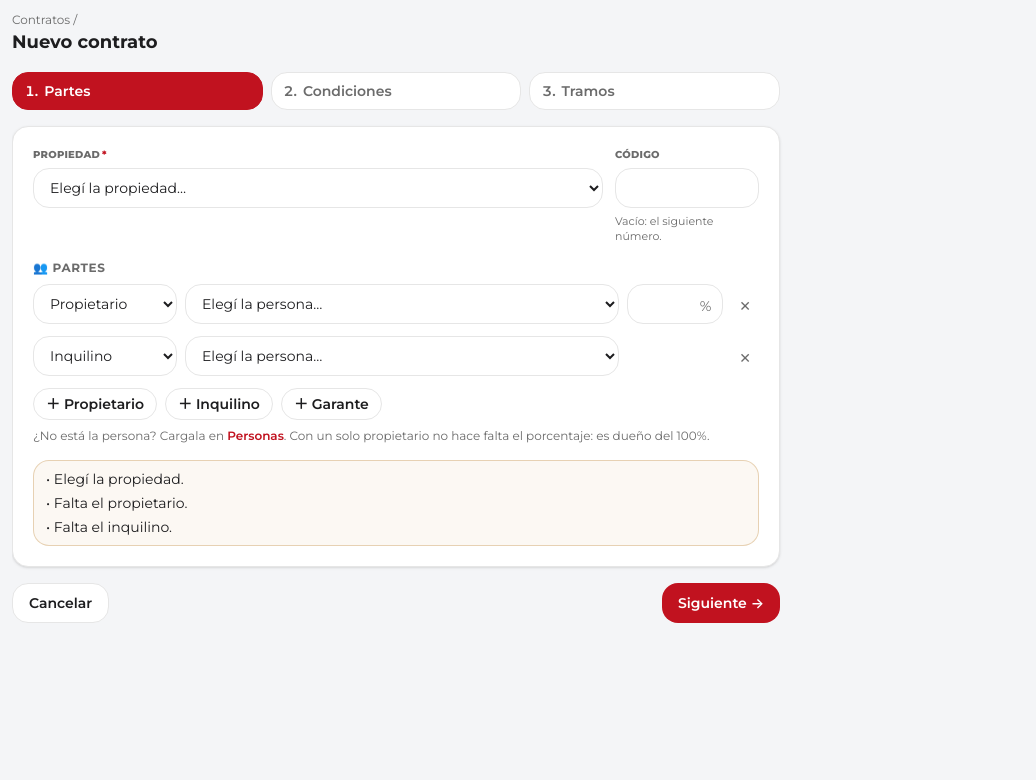
Scenario: ContratoForm — Entrega A de Vacker (Florencia, 15/10/2026) › regla 99: un contrato nuevo arranca con lo que configuró la inmobiliaria
Select "Calle 123 2° A · Rosario" in the dropdown labelled "Propiedad*" at (318, 188), box [33, 168, 603, 208]
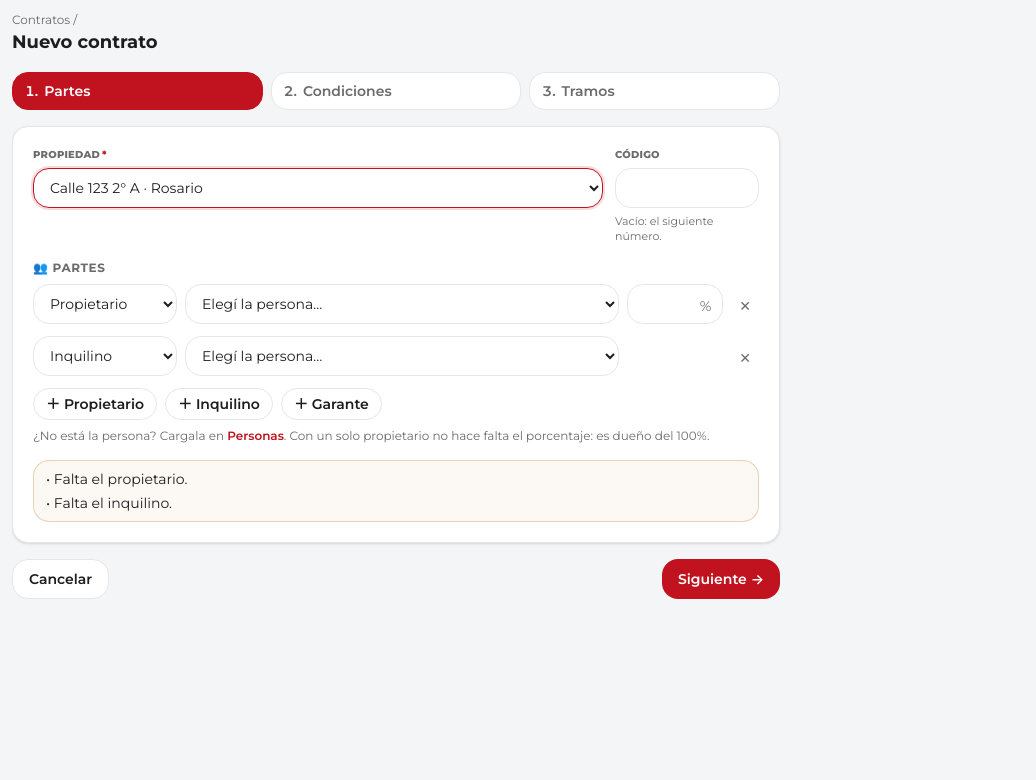
Select "Dueño Uno" in the dropdown named "Persona (propietario)" at (402, 304), box [185, 284, 619, 324]
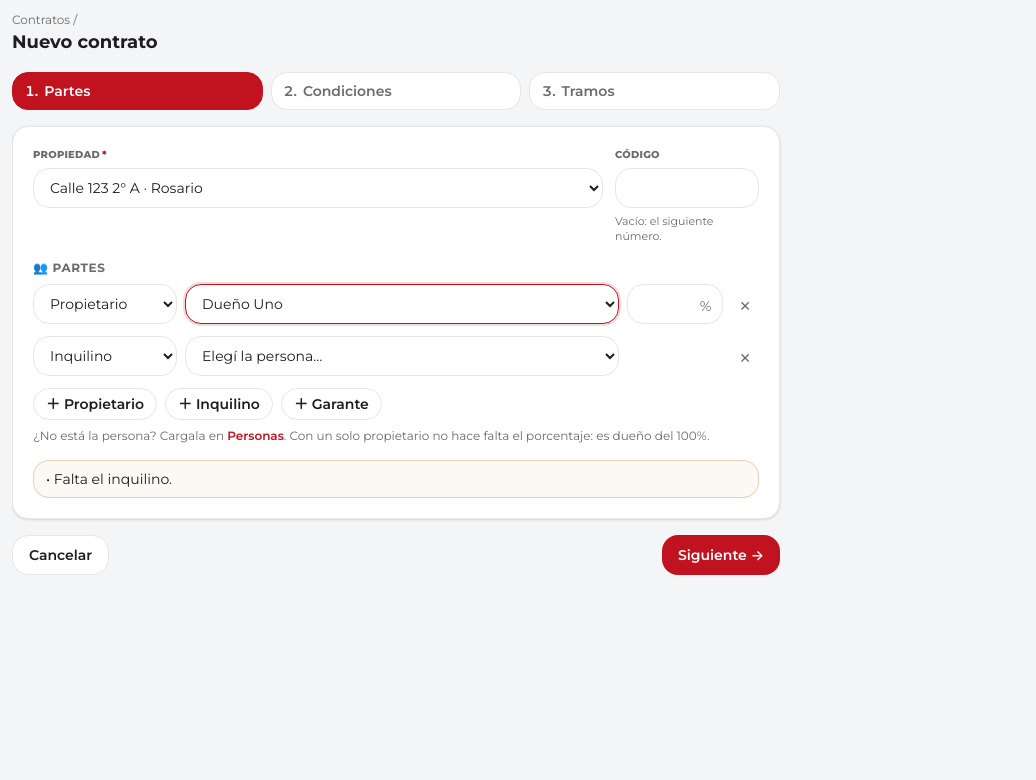
Select "Inquilina Dos" in the dropdown named "Persona (inquilino)" at (402, 356), box [185, 336, 619, 376]
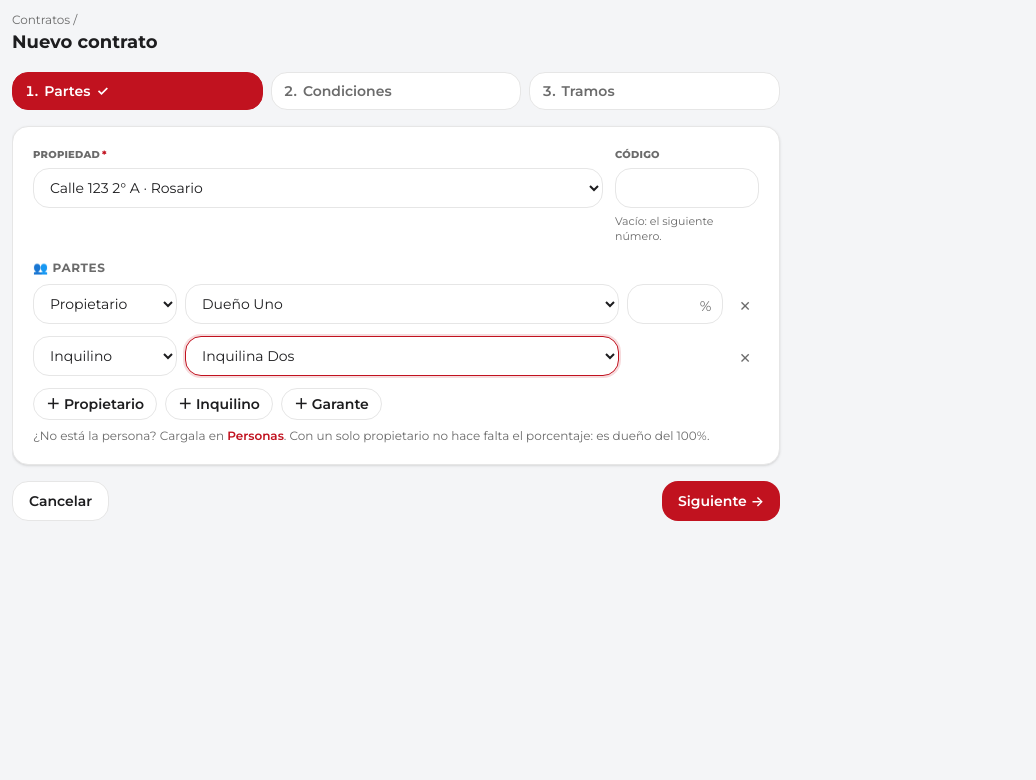
Click the button "Siguiente →" at (721, 501), box [662, 481, 780, 521]
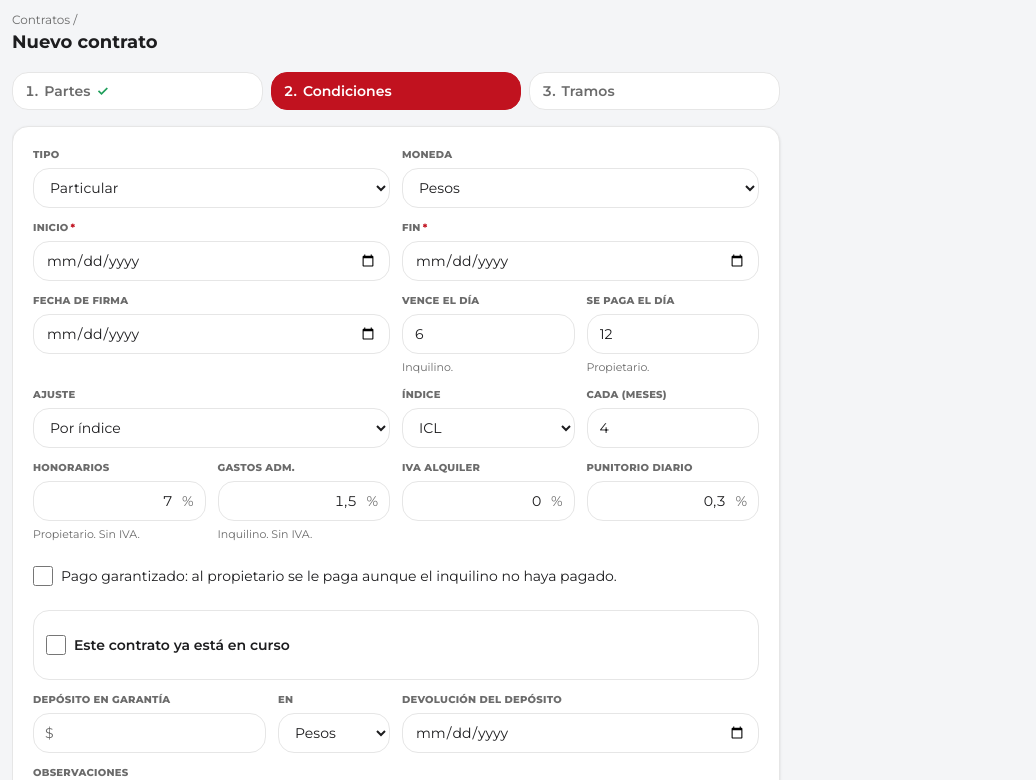
Expected: the field labelled "Vence el día Inquilino." holds "6", [402, 314, 574, 354]
Expected: the field labelled "Se paga el día Propietario." holds "12", [586, 314, 759, 354]
Expected: the field labelled "Honorarios % Propietario. Sin IVA." holds "7", [33, 481, 206, 521]
